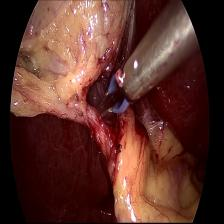Bipolar: (95, 60, 150, 129)
